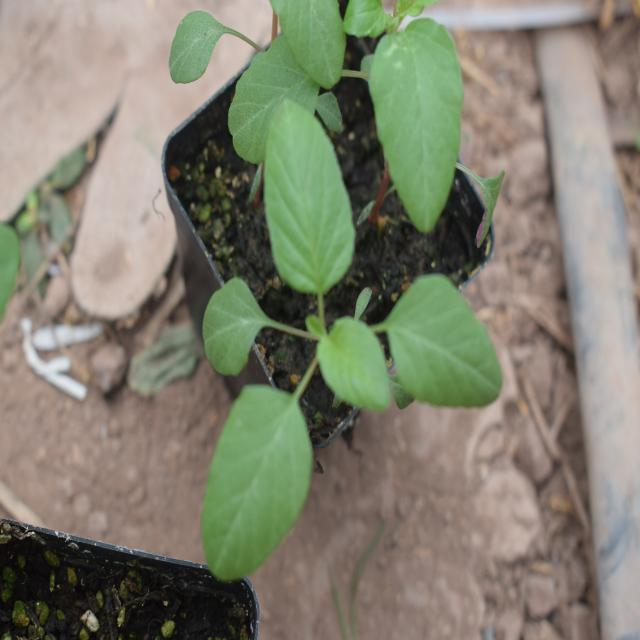pigweed: (176, 102, 503, 570)
